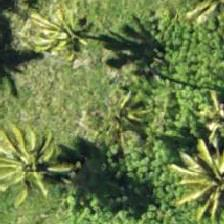Kelapa_Sawit: (80, 72, 170, 162), (0, 111, 76, 201), (25, 0, 115, 70)
